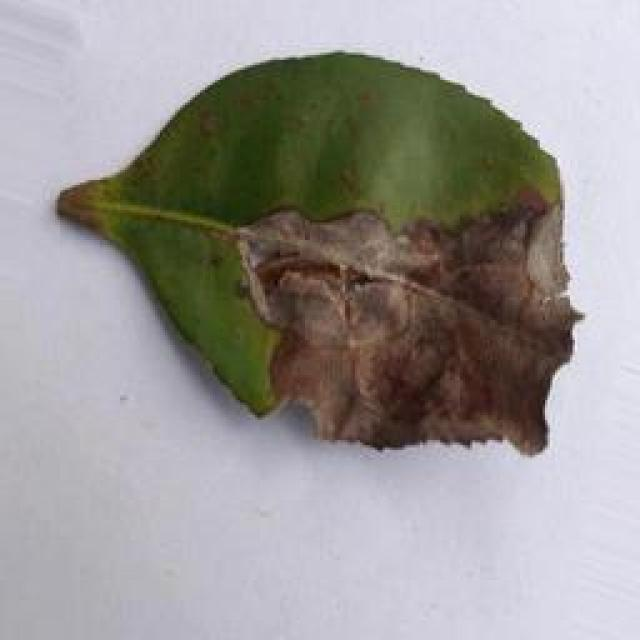Brown Blight: (45, 43, 593, 464)
